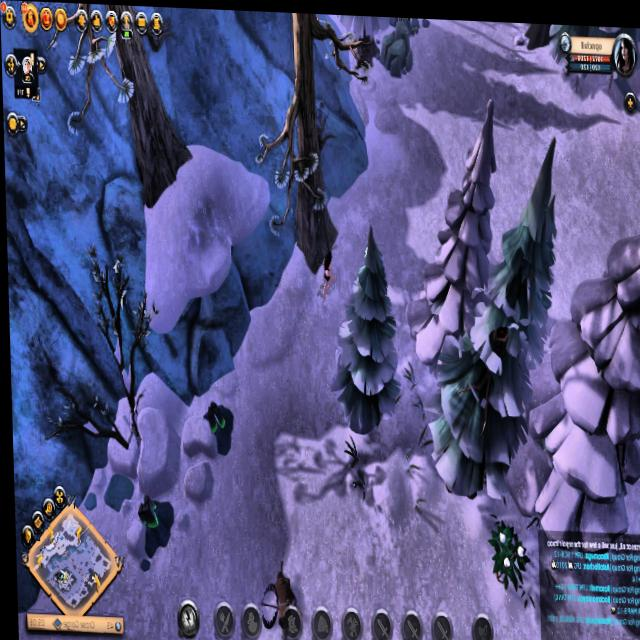flax: (484, 512, 529, 590)
sandstone: (377, 15, 415, 79)
tin_ore: (131, 484, 173, 557), (200, 393, 239, 459)
